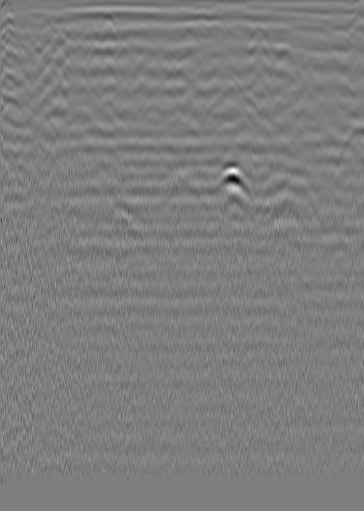가스: (214, 162, 249, 194)
상수: (313, 22, 333, 42)
오수: (19, 23, 39, 43)
우수: (179, 23, 199, 43)
